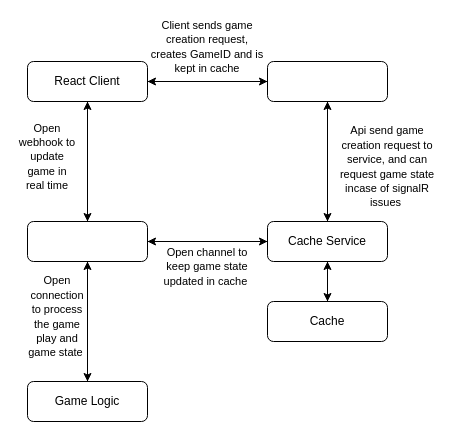
Some shapes in this 454 by 439 pixel diagram are drawn without their labels. The centre of each missing label's shape, as x and y in pixels:
"Api" belongs at point 327,81.
"SignalR Hub" belongs at point 87,241.
